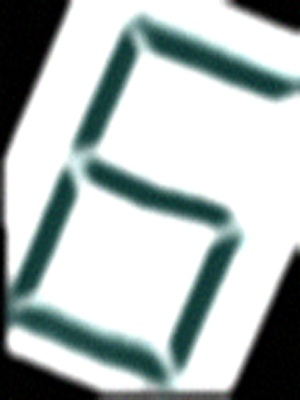six: (22, 15, 291, 388)
